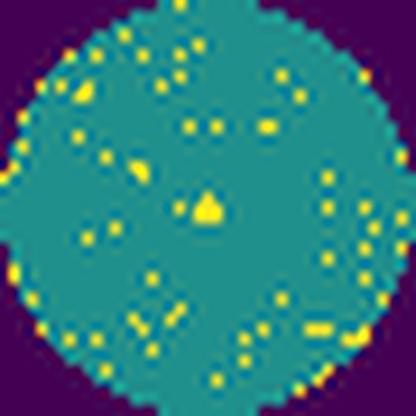Center: (185, 183, 229, 232)
